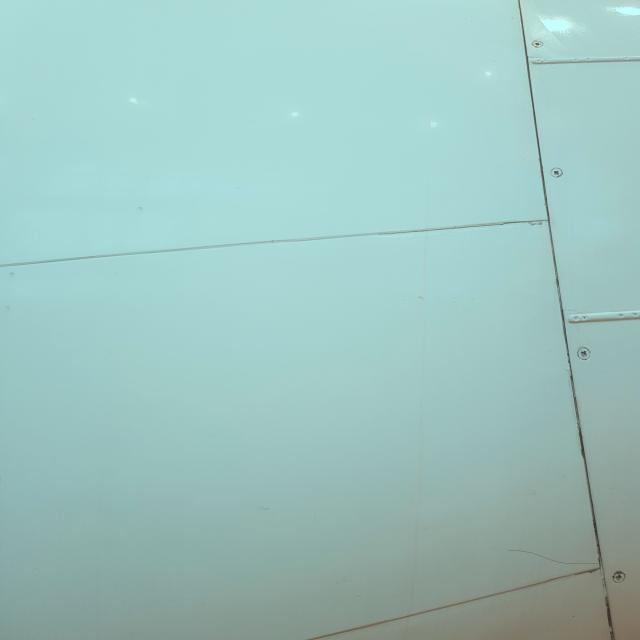Rupture: (509, 540, 608, 572)
